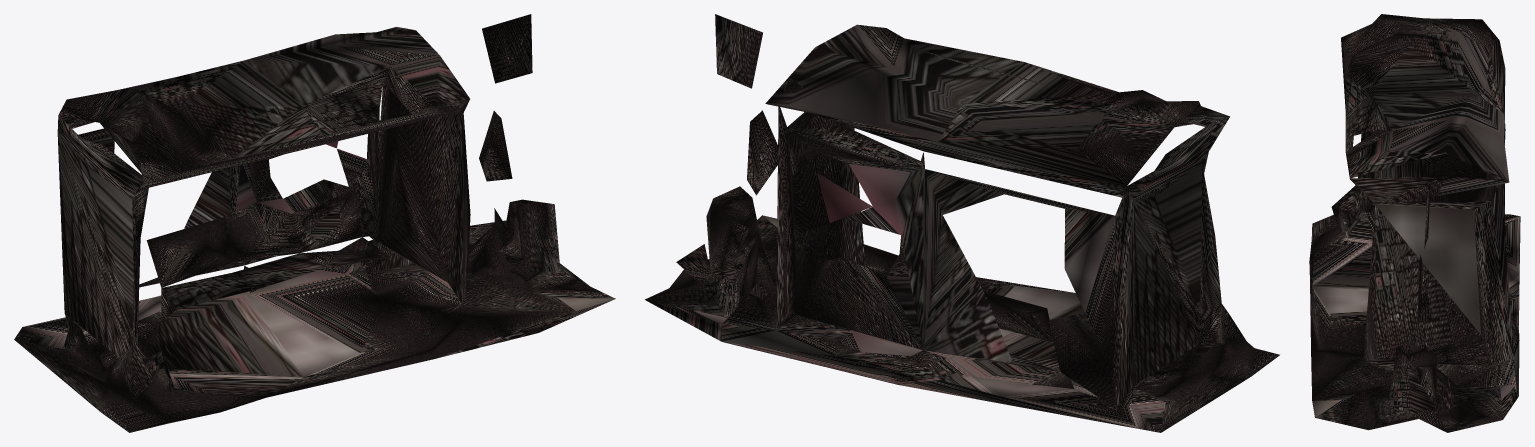
The model's file is busstopslime.glb.
3 views of the same model, side by side, from view 1: azimuth 30°, elevation 25°; view 2: azimuth 150°, elevation 25°; view 3: azimuth 270°, elevation 25° (orthographic). The views are drawn at different scales.
Parts seen in each view (by area): view 1: busstopslime; view 2: busstopslime; view 3: busstopslime.
Boxes of the visible parts, box(x1,y1,x2,y2) form: busstopslime: box(14, 14, 615, 432); busstopslime: box(645, 14, 1279, 432); busstopslime: box(1309, 14, 1520, 432).
Bounding box in the file's own units: 11.6 × 5.9 × 4.93.
Materials: 1 (1 with a texture image).
